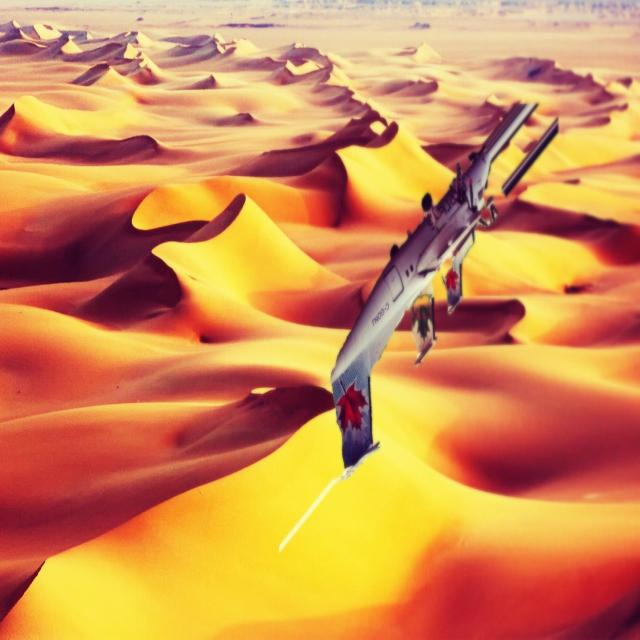airplane: (278, 101, 559, 554)
